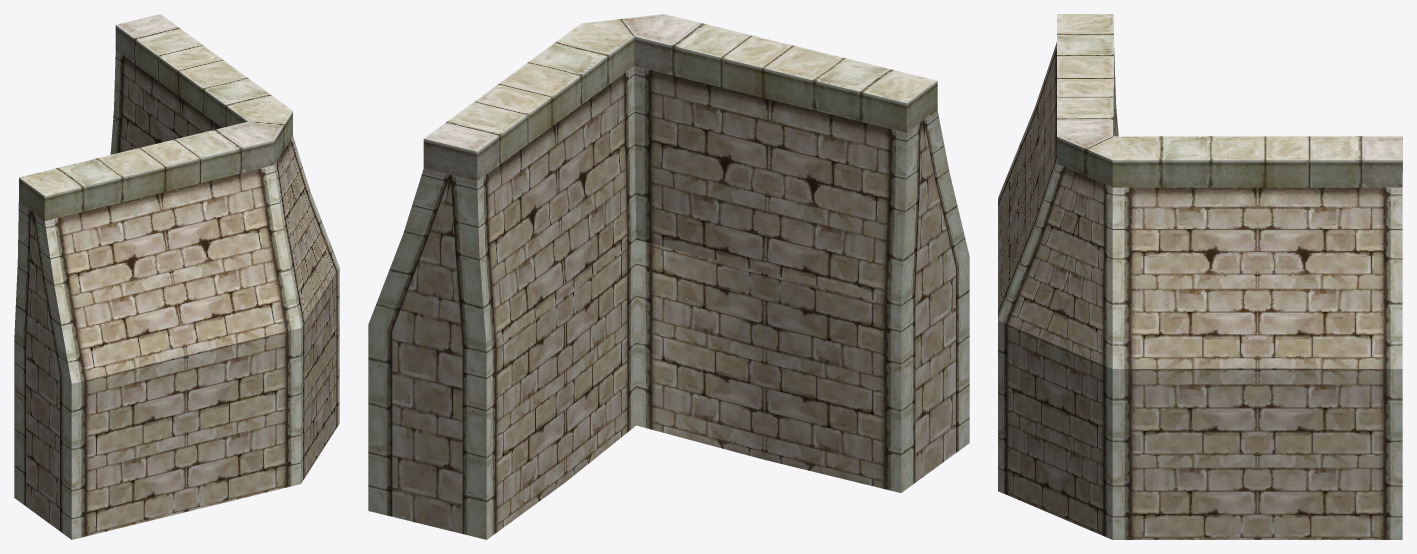
3 views of the same model, side by side, from view 1: azimuth 30°, elevation 25°; view 2: azimuth 150°, elevation 25°; view 3: azimuth 270°, elevation 25° (orthographic). The views are drawn at different scales.
Visible parts, largest first — view 1: geom_node_0; view 2: geom_node_0; view 3: geom_node_0.
Part boxes in pixels (box(x1,y1,x2,y2)): geom_node_0: box(14, 14, 339, 539); geom_node_0: box(368, 14, 969, 539); geom_node_0: box(998, 14, 1402, 539).
Bounding box in the file's own units: 5.24 × 5.06 × 5.23.
1 material, 1 textured.
